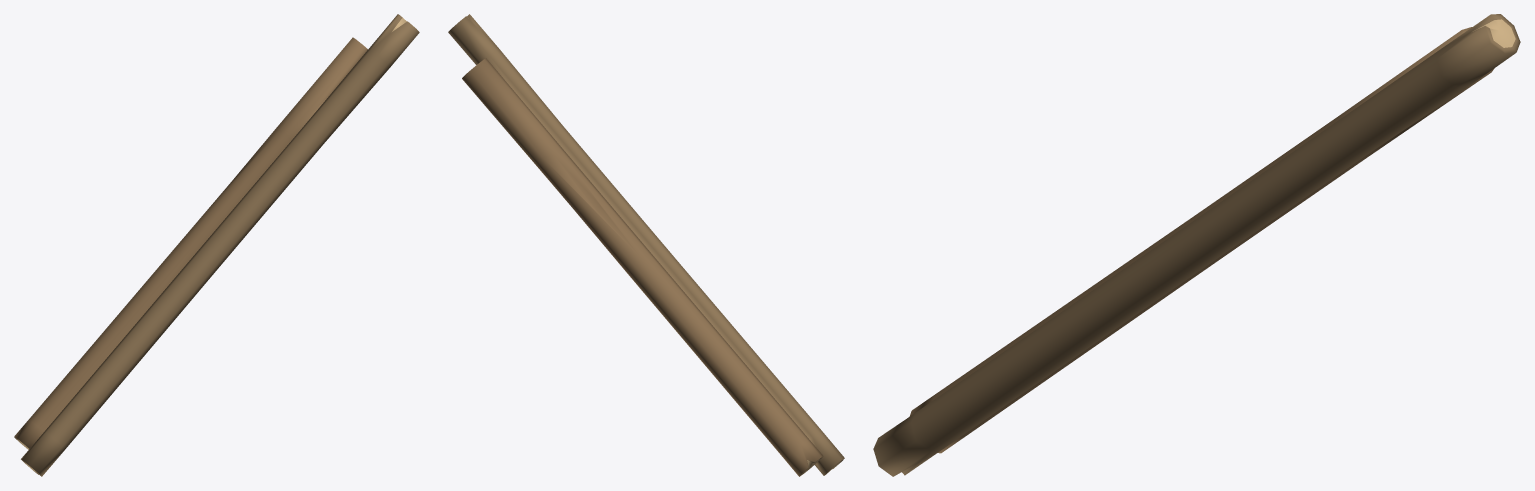
File: rpgpp_ag_roof_01_6x3x3_end_01b_half.fbx
3 renders of one model, left to right at view 1: azimuth 30°, elevation 25°; view 2: azimuth 150°, elevation 25°; view 3: azimuth 330°, elevation 25°, orthographic. The views are drawn at different scales.
Visible parts, largest first — view 1: rpgpp_ag_roof_01_6x3x3_end_01b_half; view 2: rpgpp_ag_roof_01_6x3x3_end_01b_half; view 3: rpgpp_ag_roof_01_6x3x3_end_01b_half.
Part boxes in pixels (x1,y1,x2,y2): rpgpp_ag_roof_01_6x3x3_end_01b_half: (14,14,419,476); rpgpp_ag_roof_01_6x3x3_end_01b_half: (448,14,844,476); rpgpp_ag_roof_01_6x3x3_end_01b_half: (873,14,1520,476).
Bounding box in the file's own units: 5.91 × 5.33 × 0.8144.
